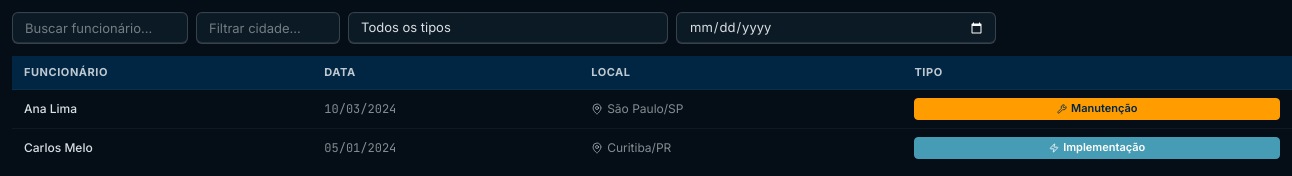
Test: MachineJobHistory › filtra por tipo ao selecionar no dropdown
Select "Implementação" in the dropdown at (508, 28), box [348, 12, 668, 44]
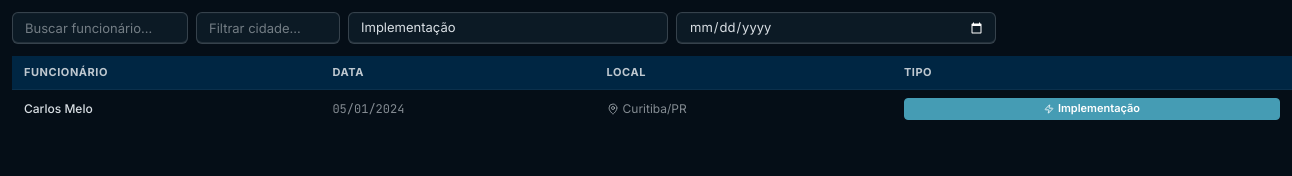
Expected: the text "Carlos Melo" is shown, [12, 90, 320, 128]
Now the button "Ana Lima" is gone
